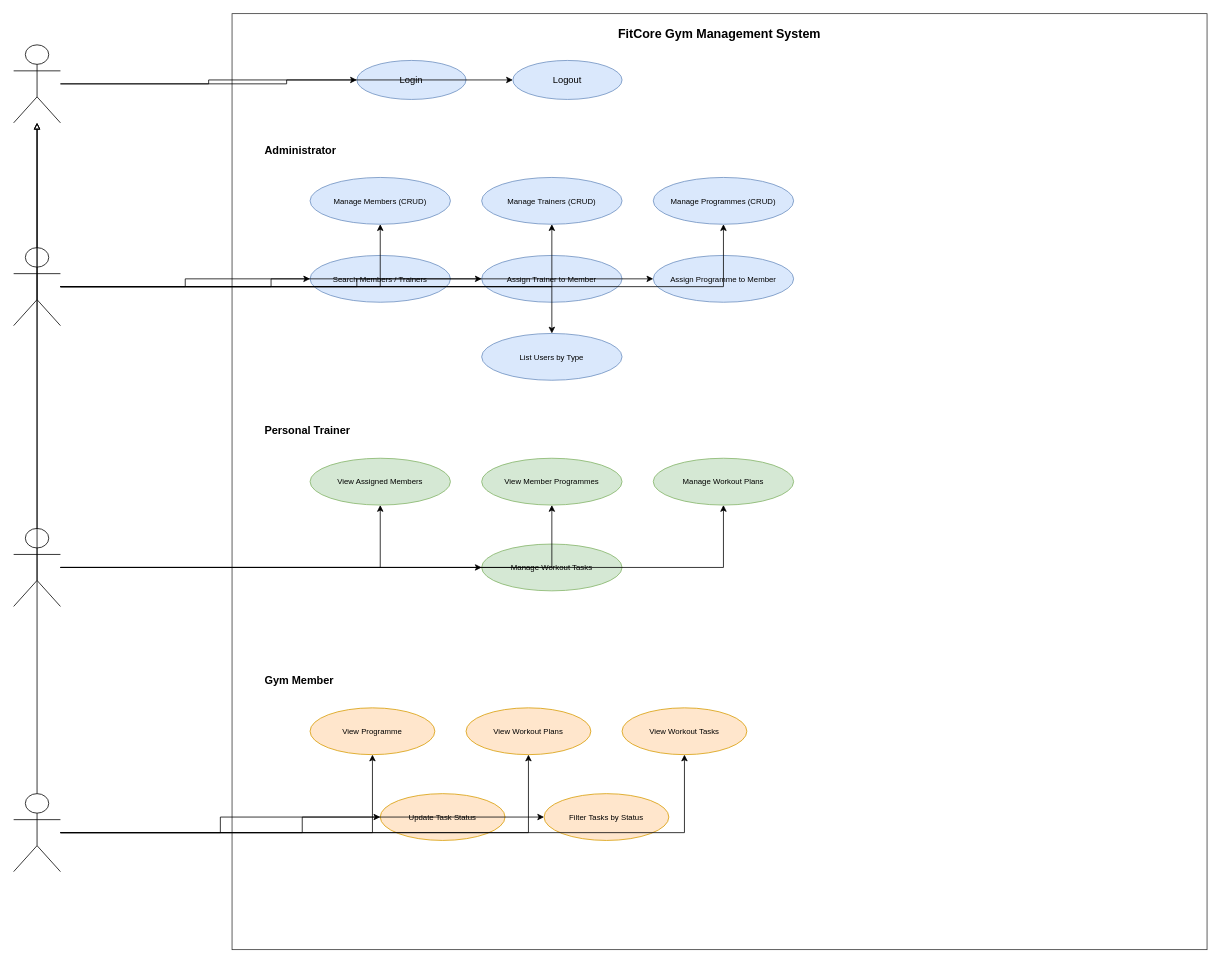
Image size: 1221x963. Some labels were removed from this diagram. The shapes that lost their labels are listed below. From the top down, each one's centre as x and y in pixels, then its label:
At point (36, 83): "User".
At point (36, 286): "Admin".
At point (36, 567): "Trainer".
At point (36, 832): "Member".
